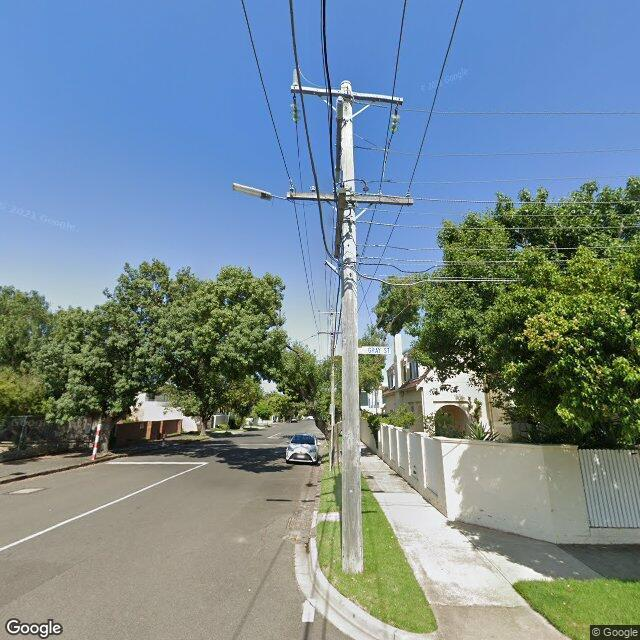HV-transmission: (291, 67, 400, 135)
crossarm: (291, 85, 404, 105), (286, 192, 413, 204), (334, 188, 347, 258), (336, 118, 342, 172), (318, 311, 342, 314), (316, 332, 346, 334)
streetlight: (232, 182, 287, 202)
timber-pole: (336, 79, 363, 574), (330, 309, 338, 470)
